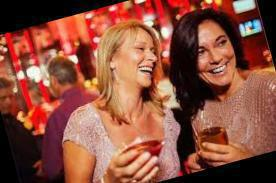Drunk: (188, 26, 235, 88), (123, 28, 158, 88)
